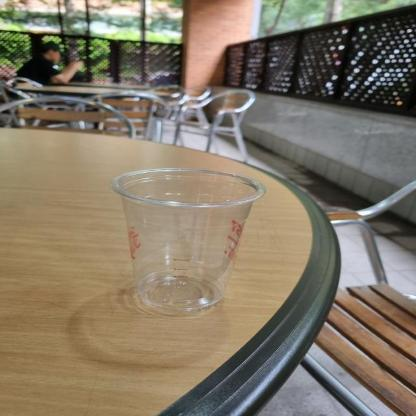Plastic Cup: (111, 166, 263, 316)
